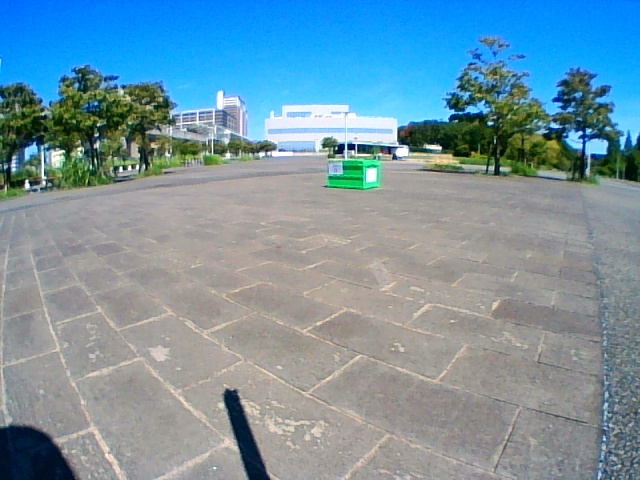green_box: (327, 160, 378, 188)
tag: (329, 162, 343, 174)
